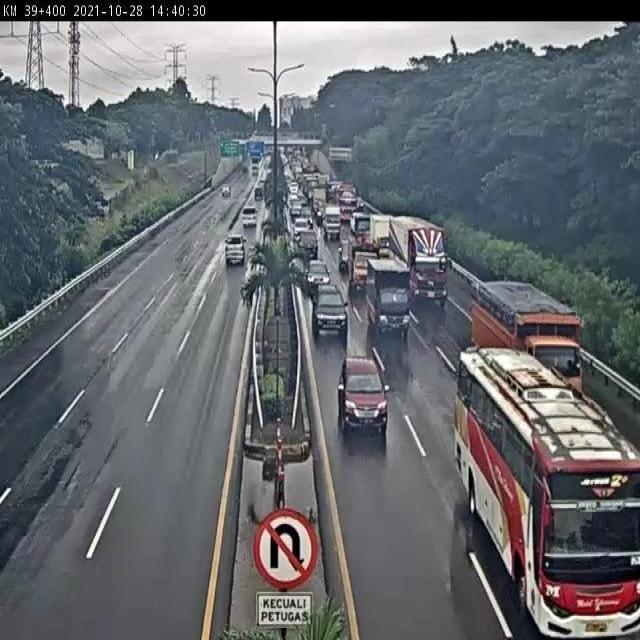ARABA: (338, 357, 389, 431), (308, 285, 348, 336), (222, 237, 248, 267), (296, 228, 319, 260), (305, 260, 330, 289), (239, 207, 259, 232)
KAMYONET: (470, 275, 581, 412), (365, 256, 409, 331), (349, 247, 381, 300)
OTOBUS: (457, 346, 640, 640)
TIR: (384, 213, 444, 300)
